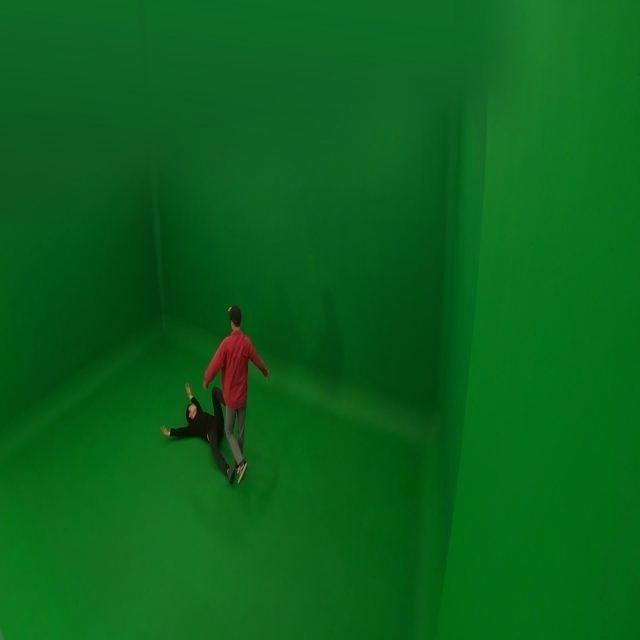fight: (158, 302, 273, 484)
